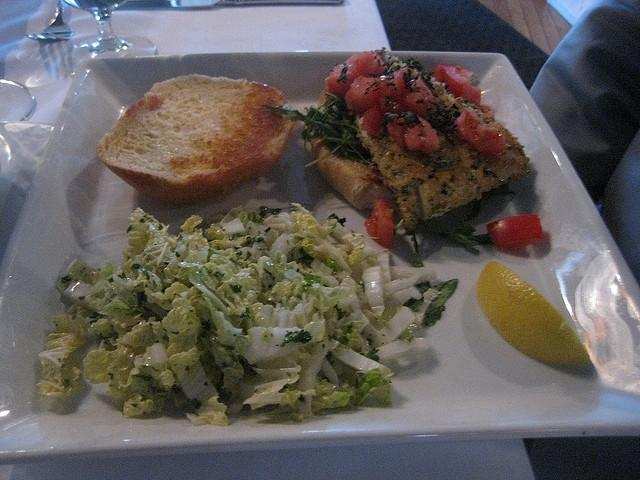lemon: (475, 260, 590, 366)
onion: (330, 339, 392, 379), (362, 306, 417, 348), (243, 326, 304, 363), (134, 342, 174, 391), (297, 340, 329, 391), (374, 338, 432, 361), (383, 270, 437, 293), (362, 266, 386, 316), (316, 243, 349, 272), (64, 280, 92, 301), (270, 233, 296, 255), (321, 358, 340, 386), (376, 252, 392, 284), (392, 286, 422, 303), (222, 218, 248, 236), (278, 212, 290, 222)
tomato: (324, 52, 388, 98), (382, 68, 433, 117), (454, 109, 506, 156), (486, 214, 542, 250), (364, 196, 394, 250), (345, 75, 387, 112), (432, 64, 473, 100), (404, 122, 439, 154), (362, 106, 385, 138)
